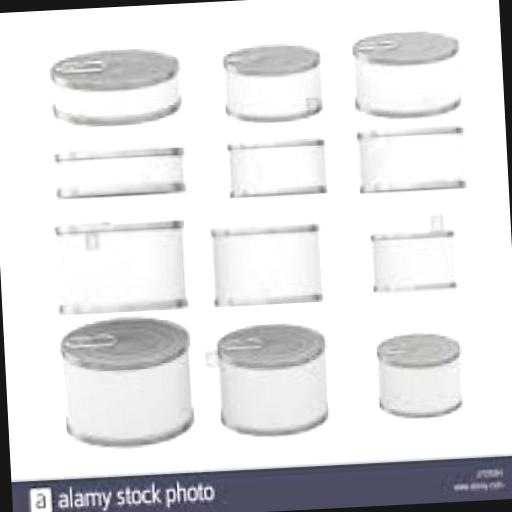metal: (59, 314, 192, 447), (214, 320, 327, 436), (51, 213, 184, 311), (47, 41, 181, 127), (350, 24, 461, 116), (209, 218, 320, 302), (220, 39, 322, 123), (352, 122, 466, 192), (374, 330, 462, 418), (54, 142, 184, 199), (366, 208, 456, 290), (224, 138, 326, 198)
